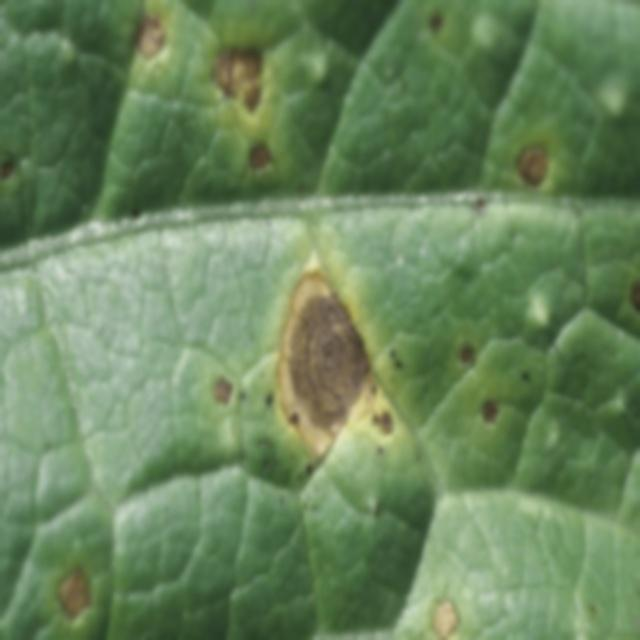leaf_spot: (6, 1, 635, 630)
